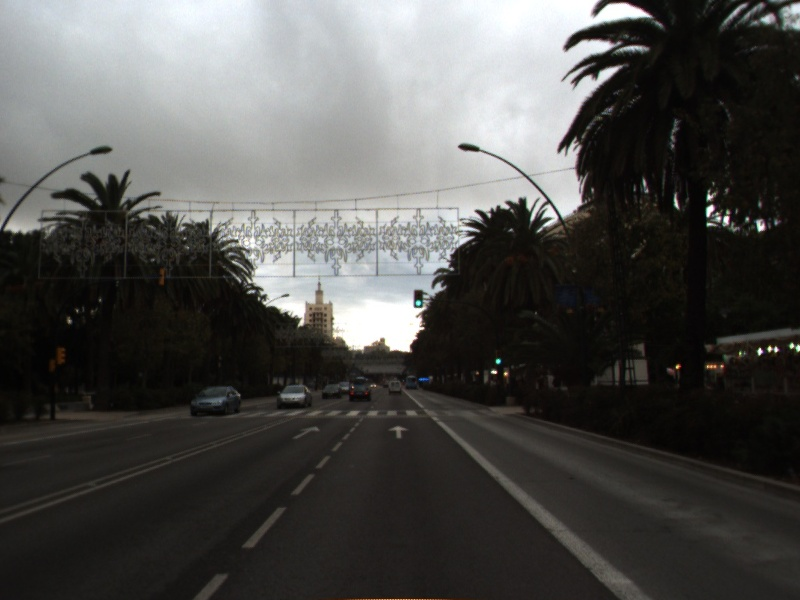STRAIGHT: (290, 424, 322, 441), (386, 423, 411, 440)
